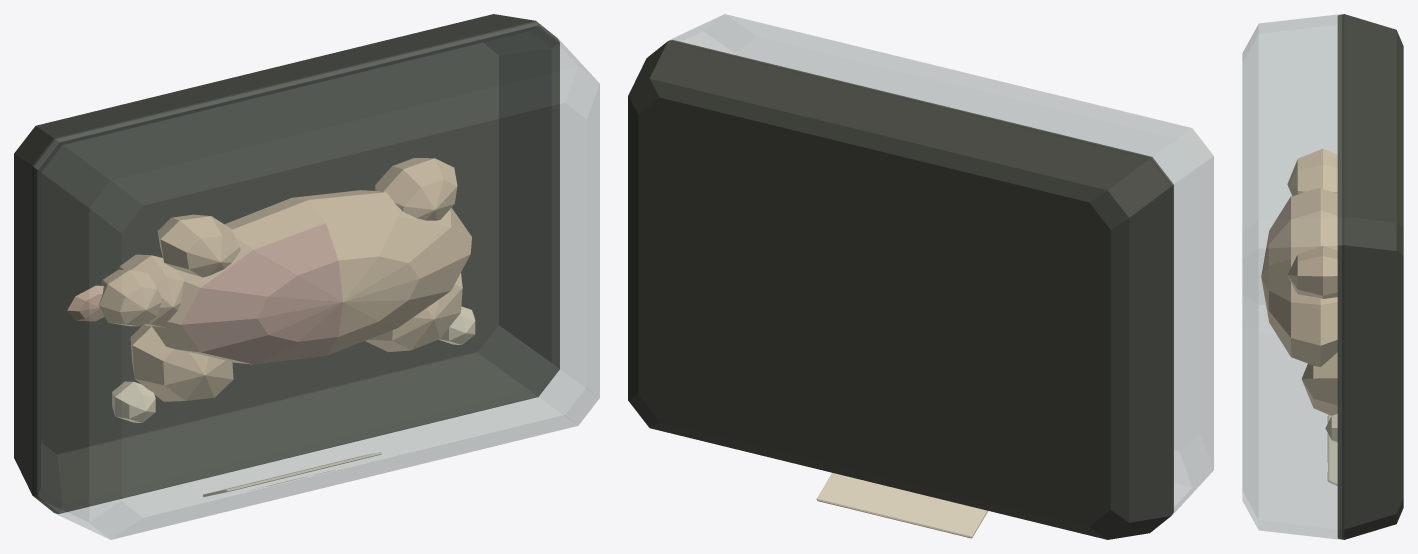
File: duck.glb
The picture shows the model from 3 angles, left to right: view 1: azimuth 30°, elevation 25°; view 2: azimuth 150°, elevation 25°; view 3: azimuth 270°, elevation 25°; orthographic projection. The views are drawn at different scales.
Visible parts, largest first — view 1: duck; view 2: duck; view 3: duck.
Boxes of the visible parts, box(x1,y1,x2,y2) form: duck: box(14, 14, 599, 539); duck: box(628, 14, 1213, 539); duck: box(1242, 14, 1403, 539).
Size of the model in its own units: 0.22 by 0.1639 by 0.068.
